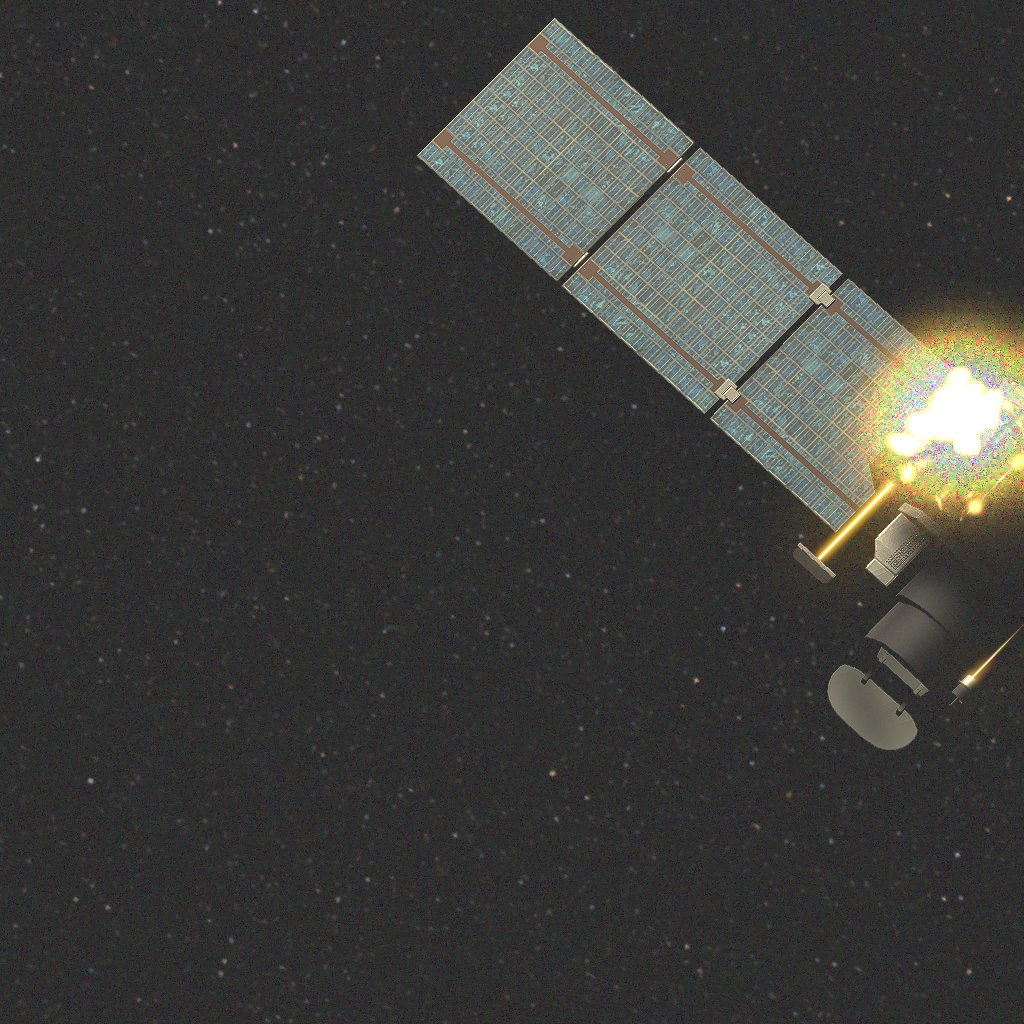earth_observation_sat_1: (464, 31, 1014, 744)
